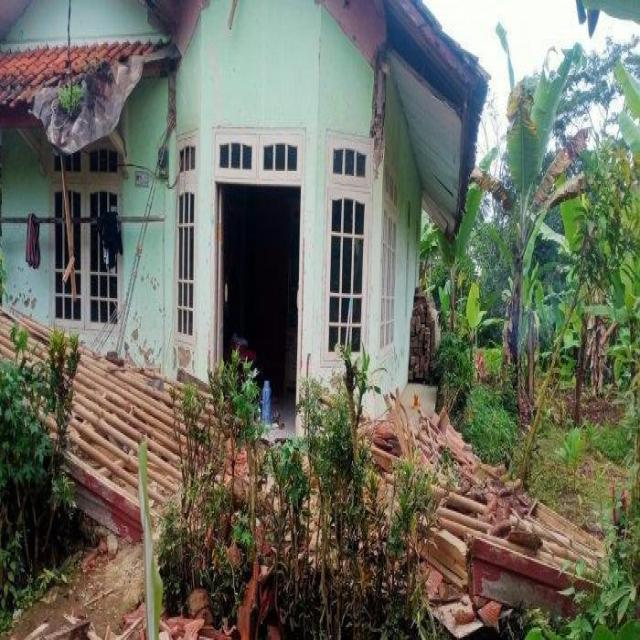damage: (0, 275, 263, 590), (338, 373, 628, 640), (364, 0, 509, 164)
